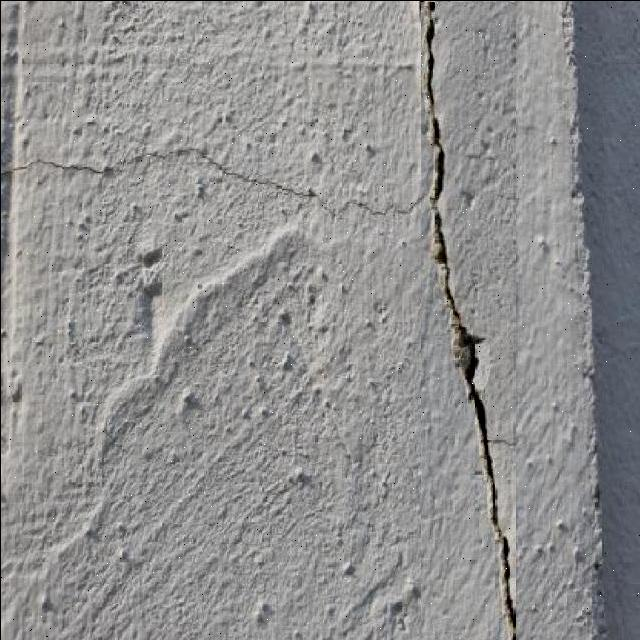crack: (4, 11, 114, 632), (416, 1, 519, 639), (277, 56, 379, 640), (561, 14, 610, 624), (13, 144, 409, 215), (3, 2, 32, 511), (412, 0, 446, 365)
